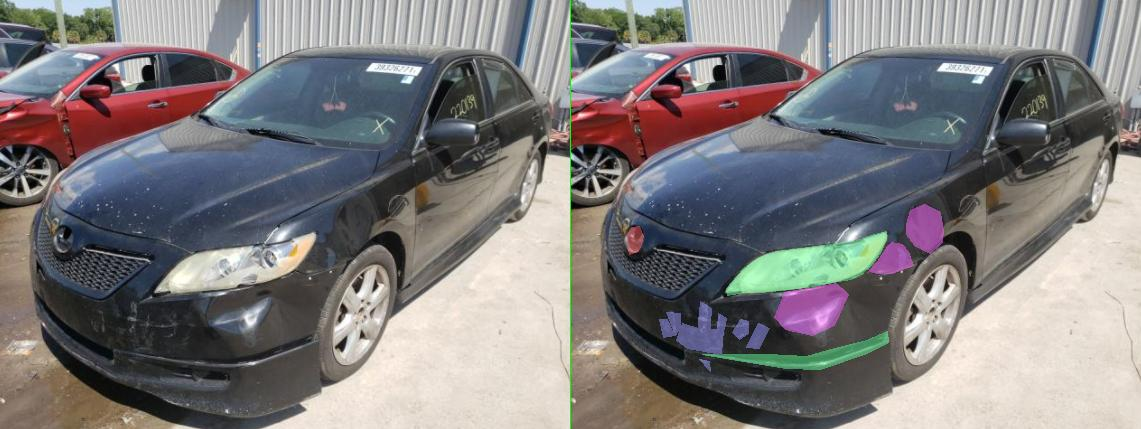Broken part: (310, 231, 631, 295), (262, 331, 635, 369)
Dent: (406, 283, 554, 335), (671, 204, 745, 253), (595, 242, 685, 273)
Missing part: (112, 226, 144, 254)
Scratch: (210, 323, 304, 354), (350, 323, 396, 348), (252, 301, 280, 333), (190, 312, 218, 335), (322, 319, 354, 339), (290, 313, 310, 343), (176, 319, 206, 337), (256, 359, 278, 371)
